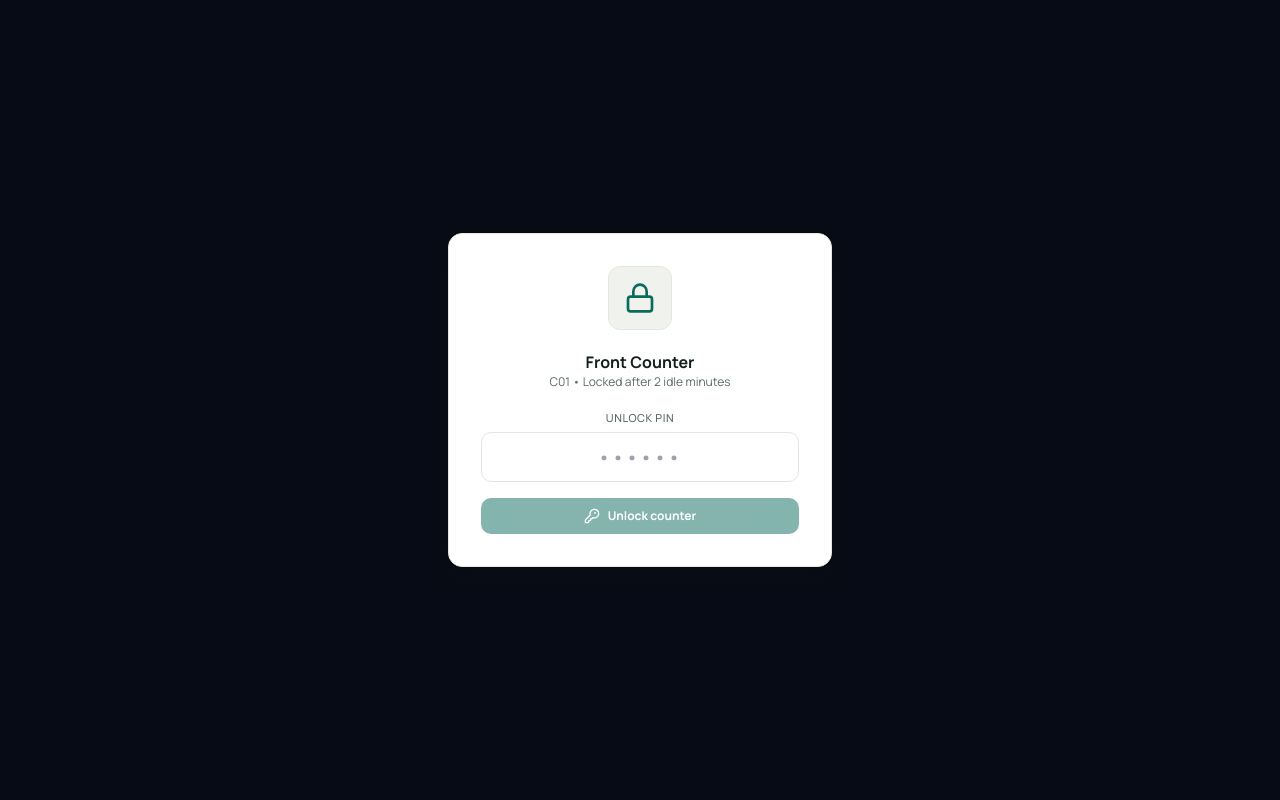
Test: The counter's idle lock at the till (PRF-005) › hands the counter to the owner once the attempts ran out
This screenshot has width=1280, height=800.
Type "111111" into the password field labelled "Unlock PIN" at (640, 457), box [481,432,799,482]
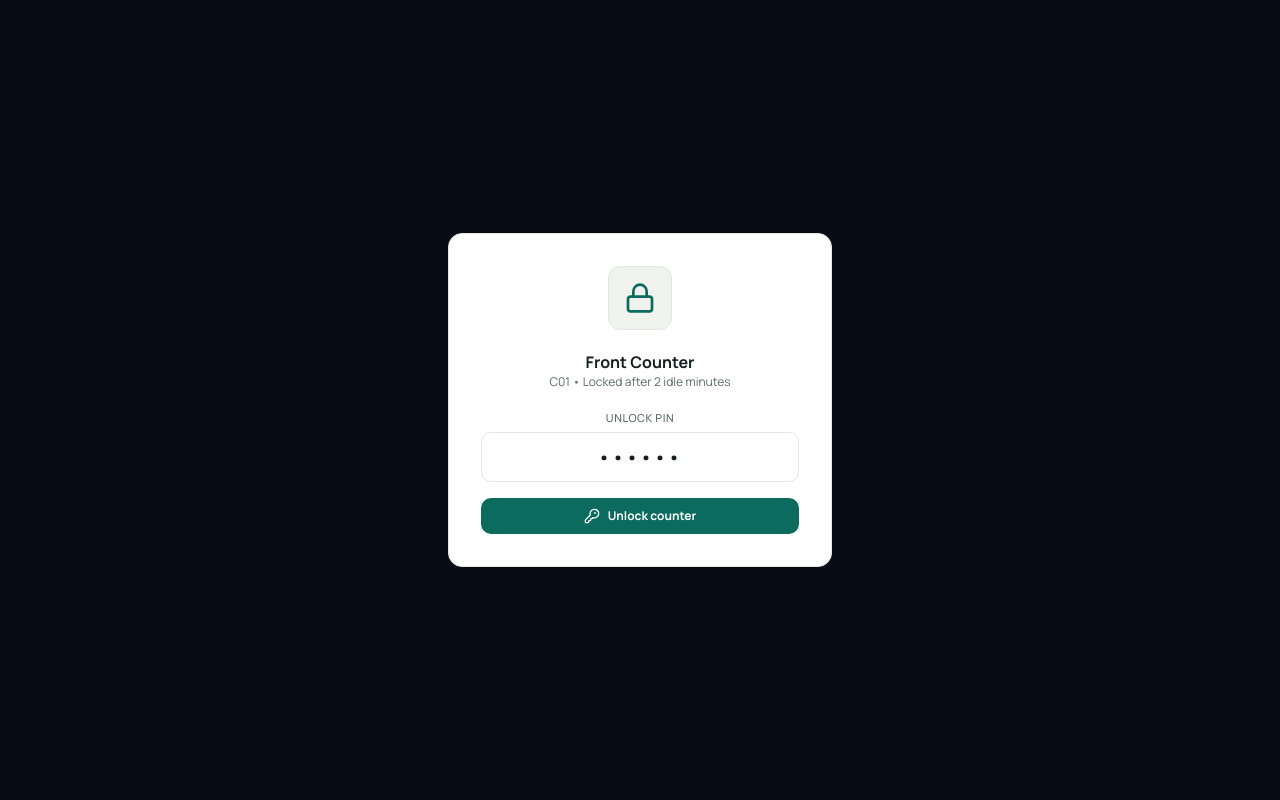
Submit the form labelled "Unlock PIN Unlock counter", box [481,410,799,534]
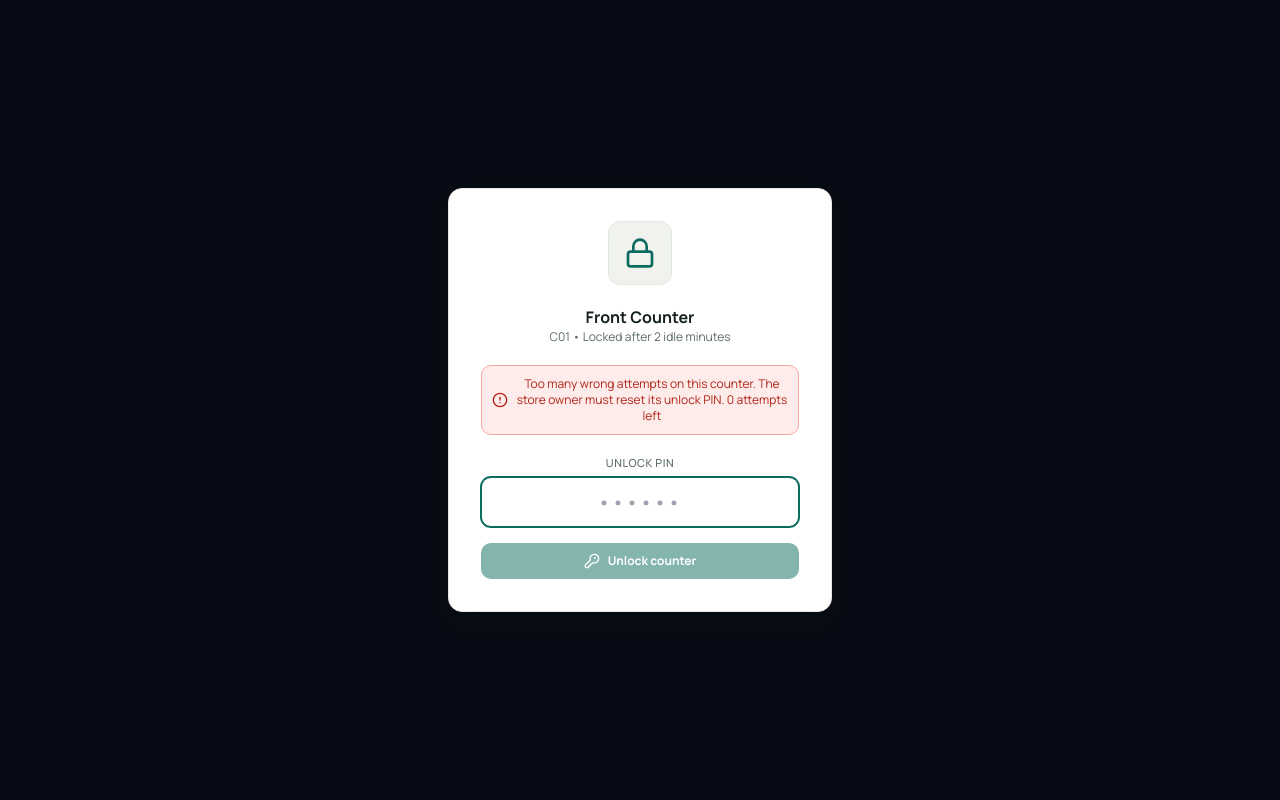
Expected: the message shows "owner must reset", [517,375,787,424]
Expected: the button "Unlock counter" is disabled, [481,543,799,579]
